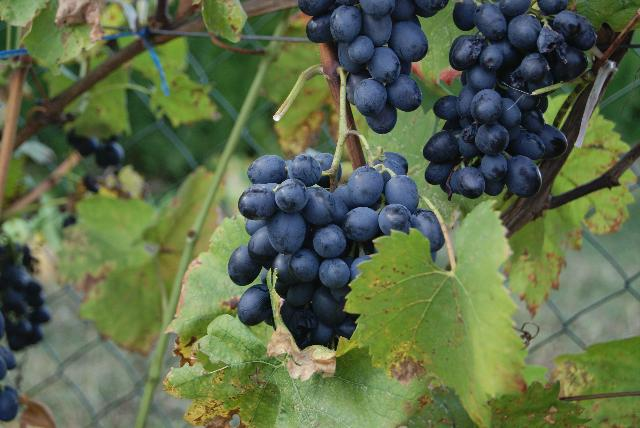grapes: (228, 129, 441, 350), (422, 0, 596, 199)
